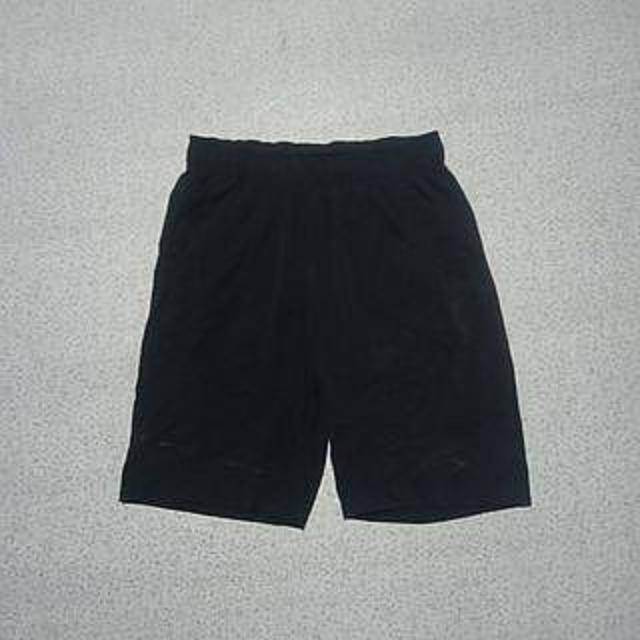SHORT: (106, 121, 584, 537)
